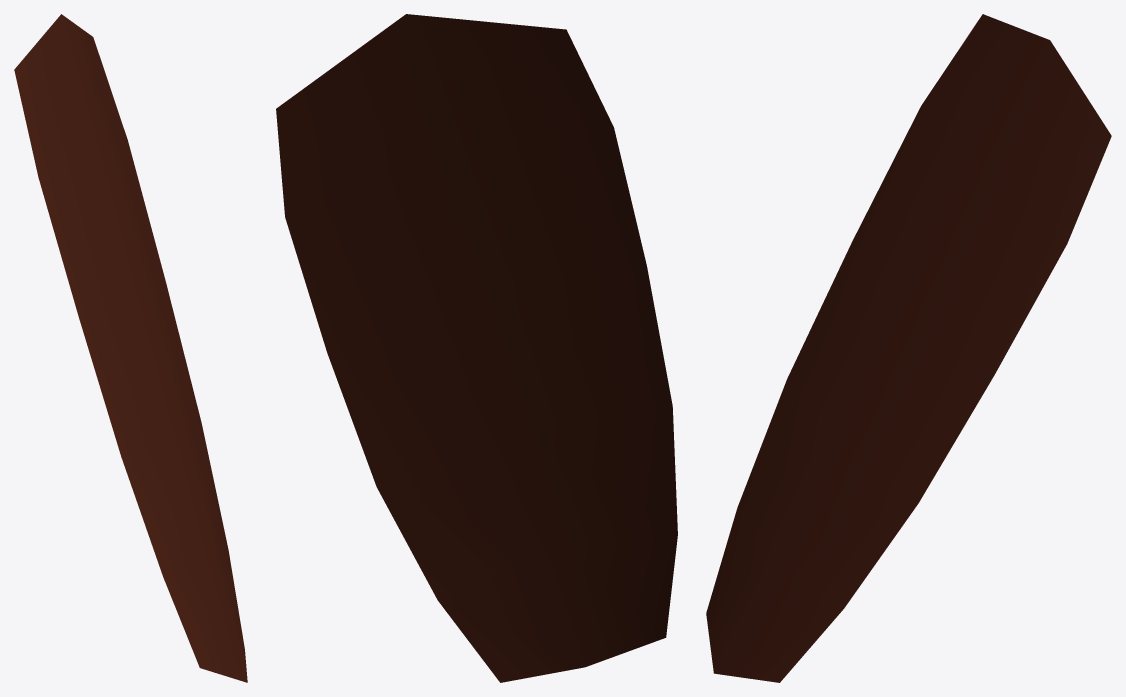
The model's file is hen_feather_tail_secondary_006.obj.
3 views of the same model, side by side, from view 1: azimuth 30°, elevation 25°; view 2: azimuth 150°, elevation 25°; view 3: azimuth 270°, elevation 25° (orthographic). The views are drawn at different scales.
Parts seen in each view (by area): view 1: feather_tail_secondary_006; view 2: feather_tail_secondary_006; view 3: feather_tail_secondary_006.
Boxes of the visible parts, box(x1,y1,x2,y2) form: feather_tail_secondary_006: box(14, 14, 247, 682); feather_tail_secondary_006: box(276, 14, 677, 682); feather_tail_secondary_006: box(706, 14, 1111, 682).
Size of the model in its own units: 0.0228 by 0.0757 by 0.0452.
